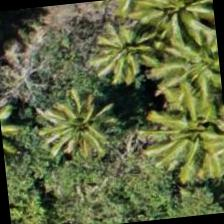Kelapa_Sawit: (143, 80, 223, 180), (154, 10, 222, 107), (128, 0, 218, 57)
